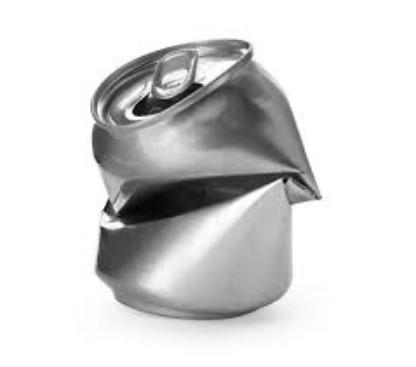Can: (87, 29, 327, 326)
